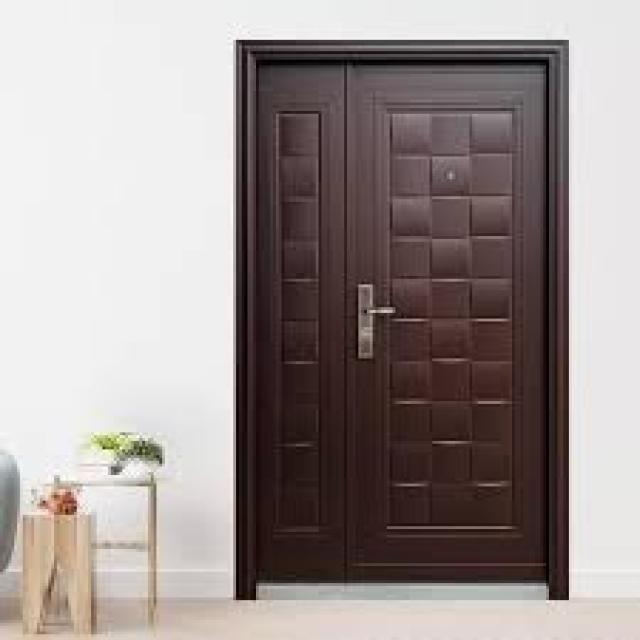door: (248, 44, 558, 593)
